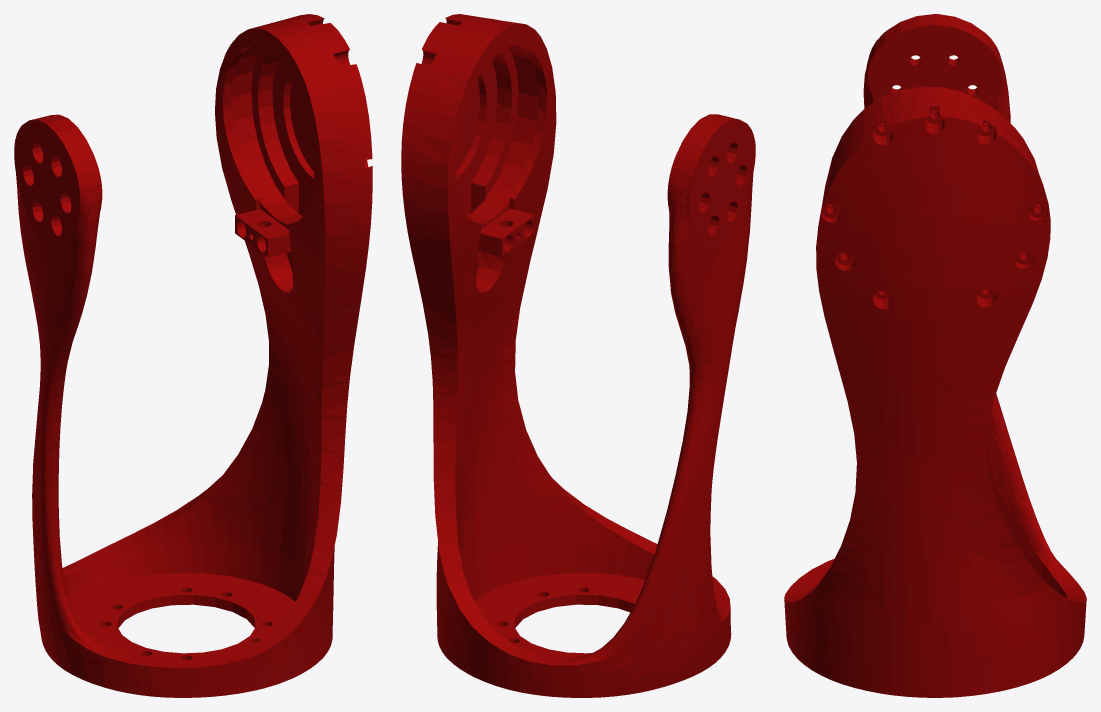
File: L_forearm.obj
The picture shows the model from 3 angles, left to right: view 1: azimuth 30°, elevation 25°; view 2: azimuth 150°, elevation 25°; view 3: azimuth 270°, elevation 25°; orthographic projection.
Visible parts, largest first — view 1: L_forearm; view 2: L_forearm; view 3: L_forearm.
Boxes of the visible parts, bbox=[...] form: L_forearm: bbox=[14, 14, 372, 697]; L_forearm: bbox=[401, 14, 755, 697]; L_forearm: bbox=[784, 14, 1086, 697].
Bounding box in the file's own units: 0.0919 × 0.1758 × 0.0817.
